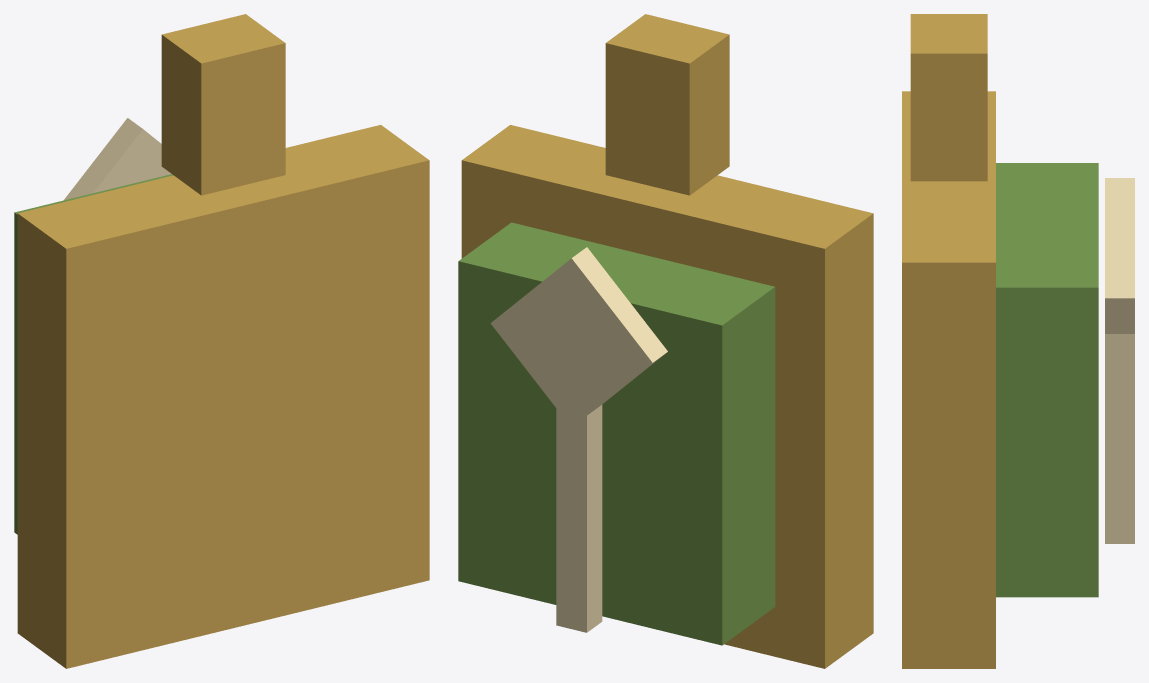
The model's file is hunters_token.glb.
The picture shows the model from 3 angles, left to right: view 1: azimuth 30°, elevation 25°; view 2: azimuth 150°, elevation 25°; view 3: azimuth 270°, elevation 25°; orthographic projection. The views are drawn at different scales.
Parts seen in each view (by area): view 1: hunters_token; view 2: hunters_token; view 3: hunters_token.
Part boxes in pixels (x1,y1,x2,y2): hunters_token: (14,14,429,668); hunters_token: (458,14,873,668); hunters_token: (902,14,1134,668).
Size of the model in its own units: 0.95 by 1.42 by 0.545.
